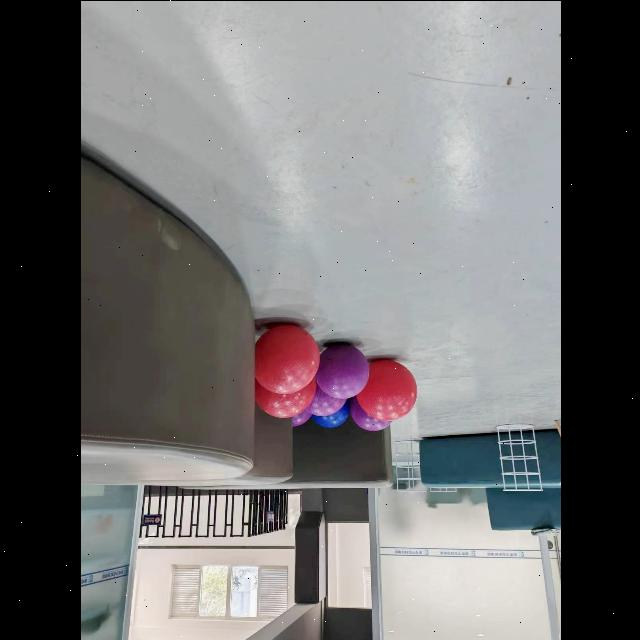B: (311, 401, 348, 427)
P: (315, 344, 368, 398), (348, 396, 390, 431), (305, 385, 346, 415), (290, 410, 310, 425)
R: (255, 324, 319, 392), (356, 359, 416, 420), (253, 377, 315, 418)
S: (496, 423, 542, 490)
